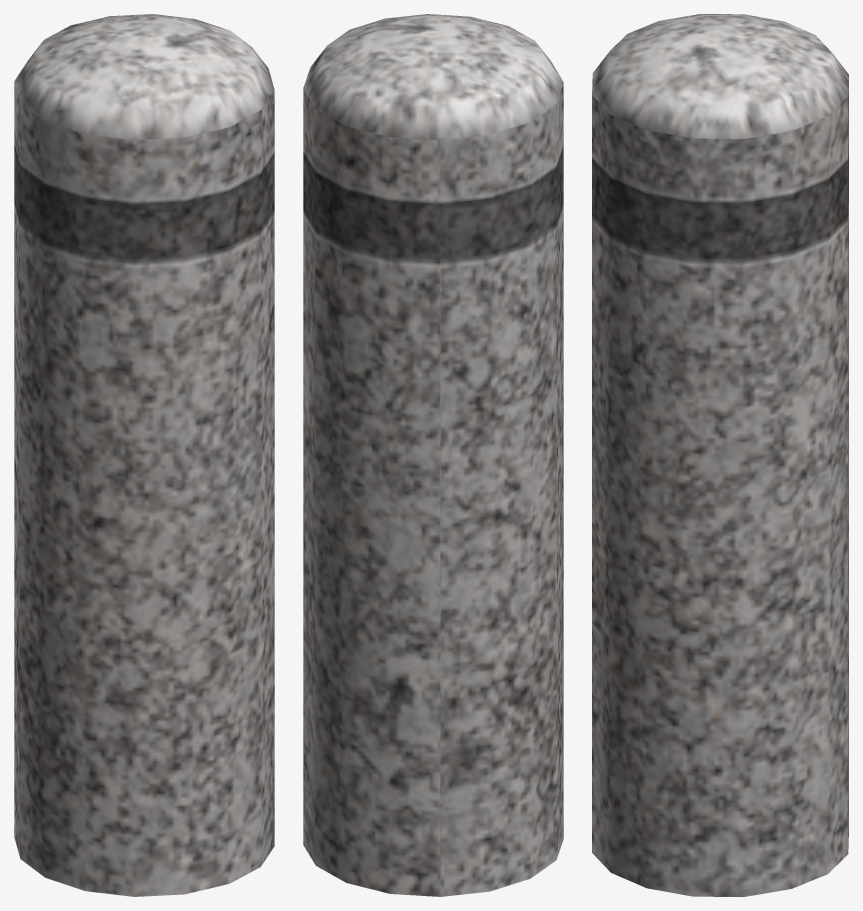
Rendered from Preset_BollardA.fbx.
The picture shows the model from 3 angles, left to right: view 1: azimuth 30°, elevation 25°; view 2: azimuth 150°, elevation 25°; view 3: azimuth 270°, elevation 25°; orthographic projection.
Visible parts, largest first — view 1: BollardA; view 2: BollardA; view 3: BollardA.
Boxes of the visible parts, bbox=[...] form: BollardA: bbox=[14, 14, 274, 896]; BollardA: bbox=[303, 14, 563, 896]; BollardA: bbox=[592, 14, 848, 896].
Size of the model in its own units: 24.58 by 24.58 by 85.
Materials: 1 (1 with a texture image).
